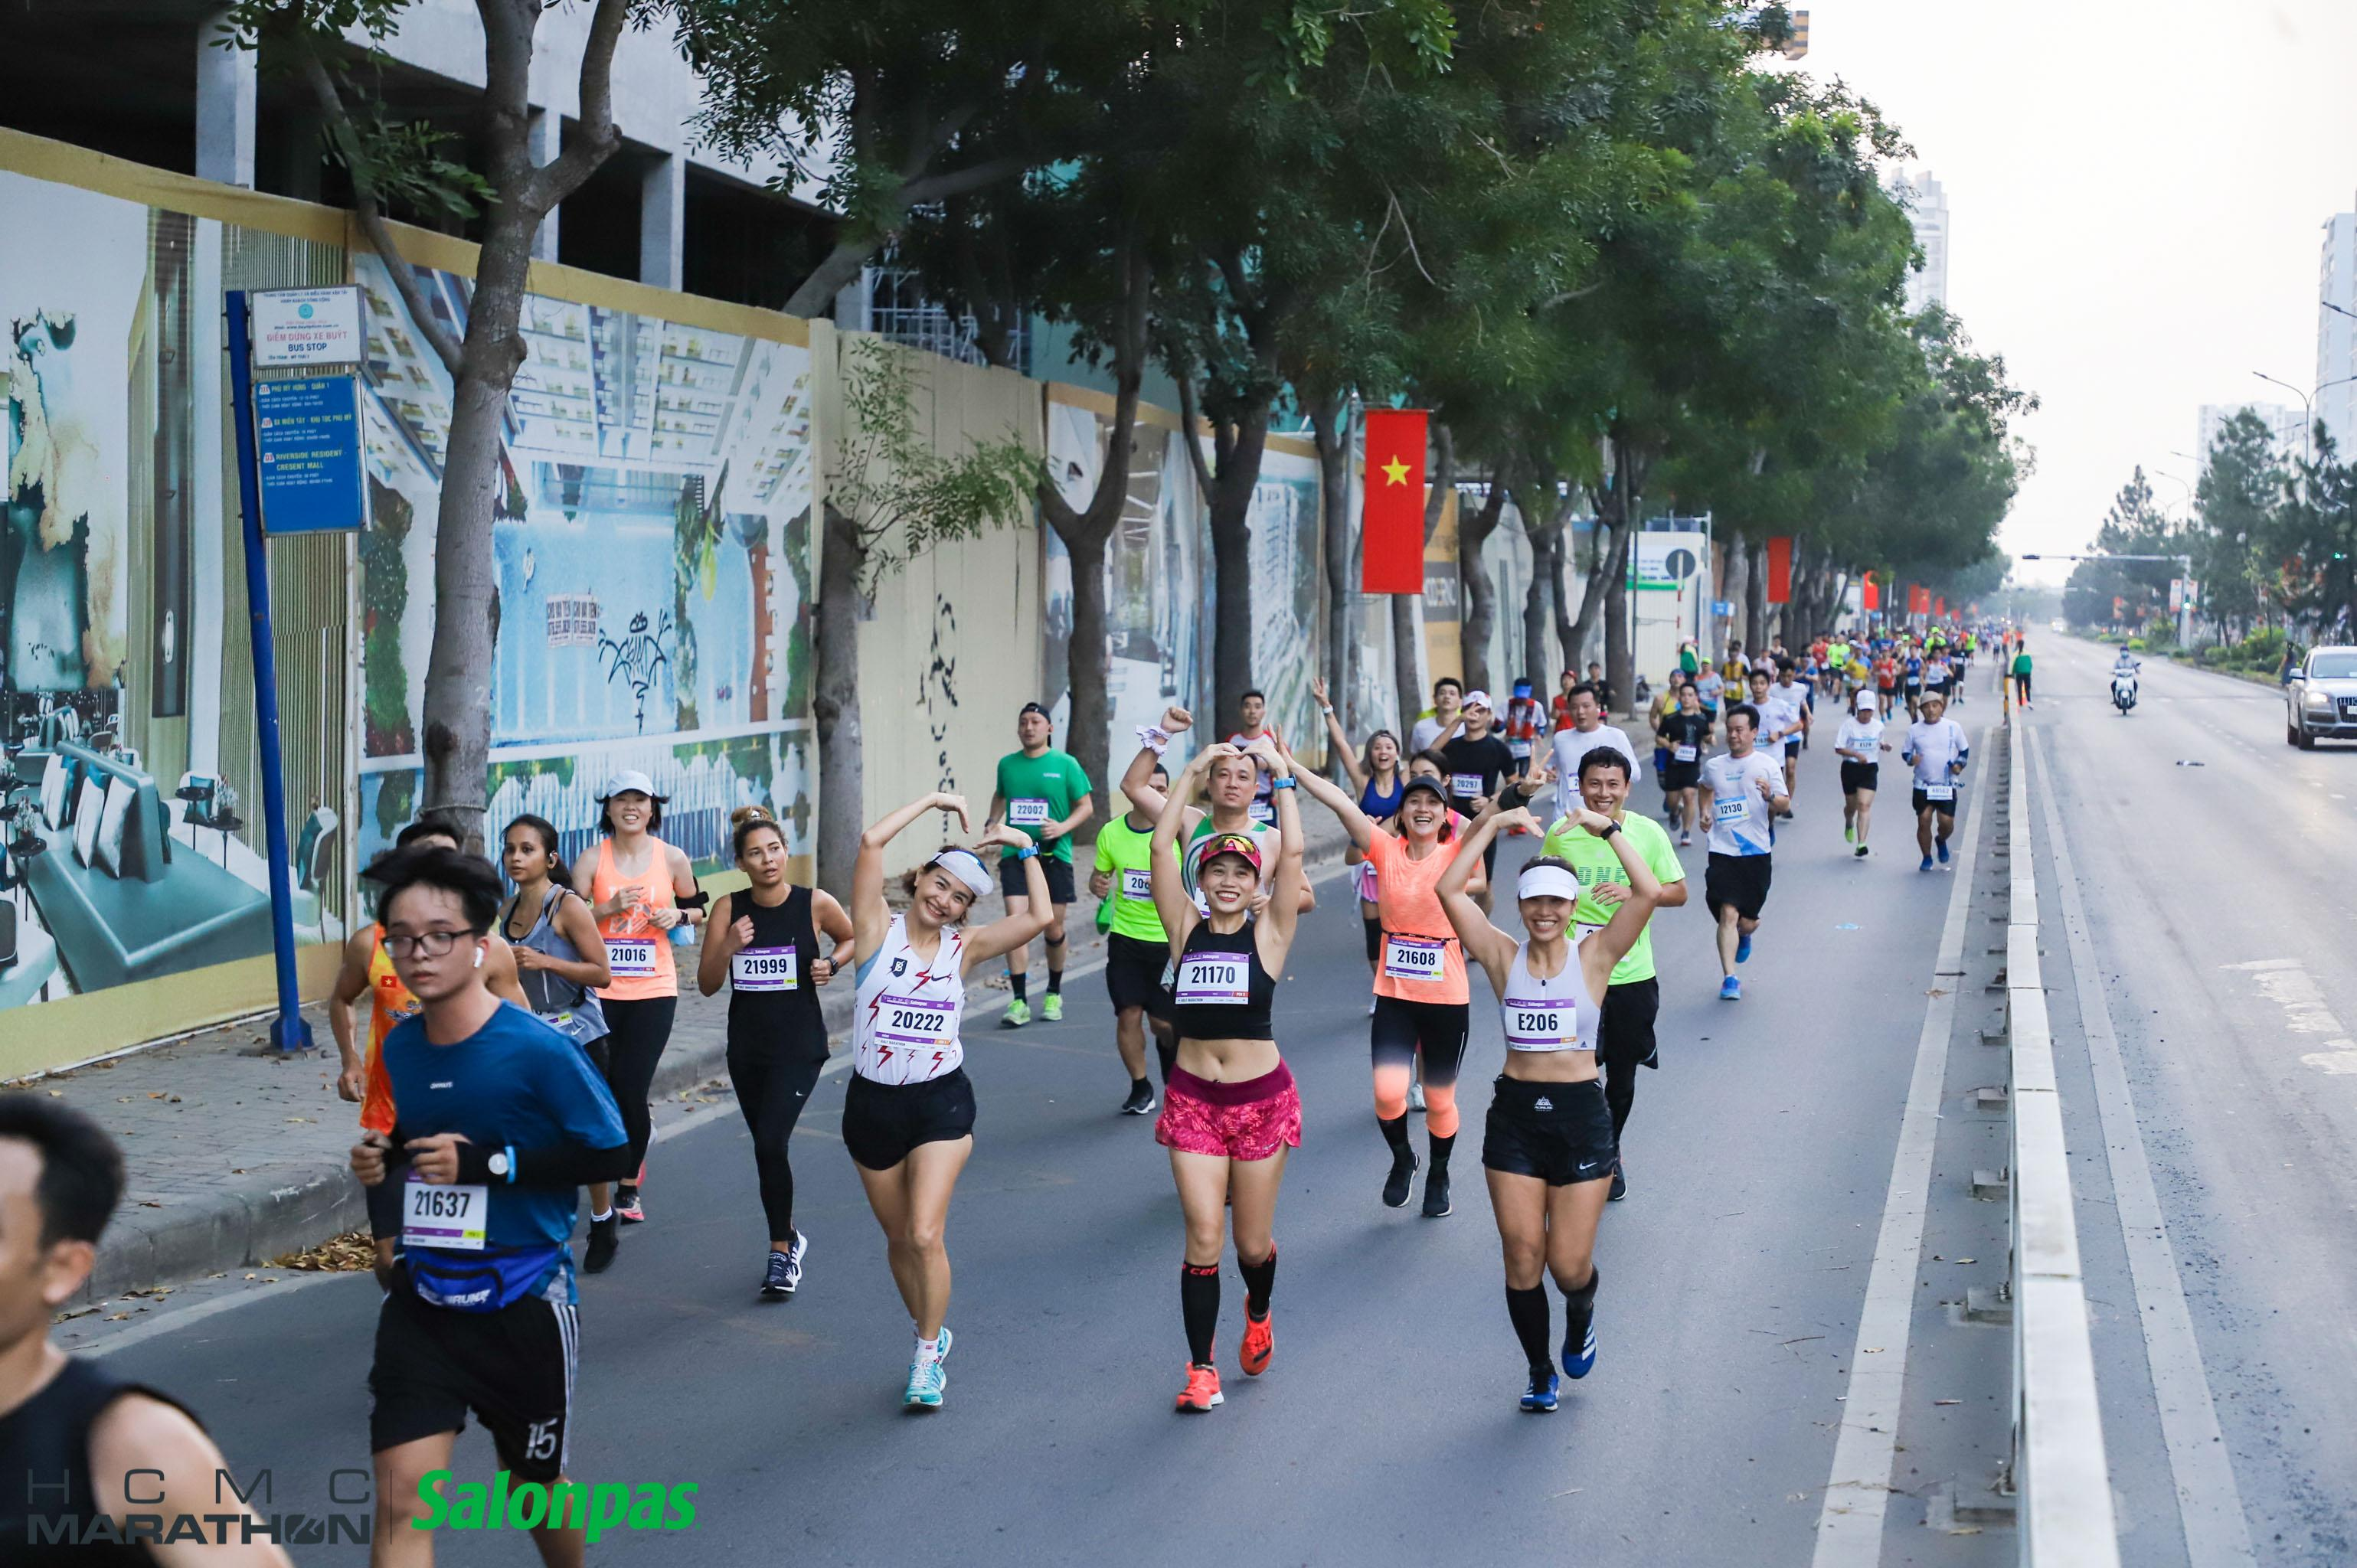bib: (399, 1172, 488, 1251), (877, 996, 955, 1048), (1178, 952, 1249, 1004), (1505, 1001, 1578, 1052), (730, 948, 796, 992), (1384, 936, 1445, 983), (604, 938, 654, 973), (1123, 868, 1158, 899), (1715, 800, 1752, 826), (1010, 800, 1048, 824), (1451, 773, 1484, 796), (1249, 798, 1276, 822), (1927, 784, 1951, 801), (1564, 772, 1582, 794), (1676, 745, 1697, 761), (1857, 740, 1878, 749), (1759, 733, 1769, 747)
